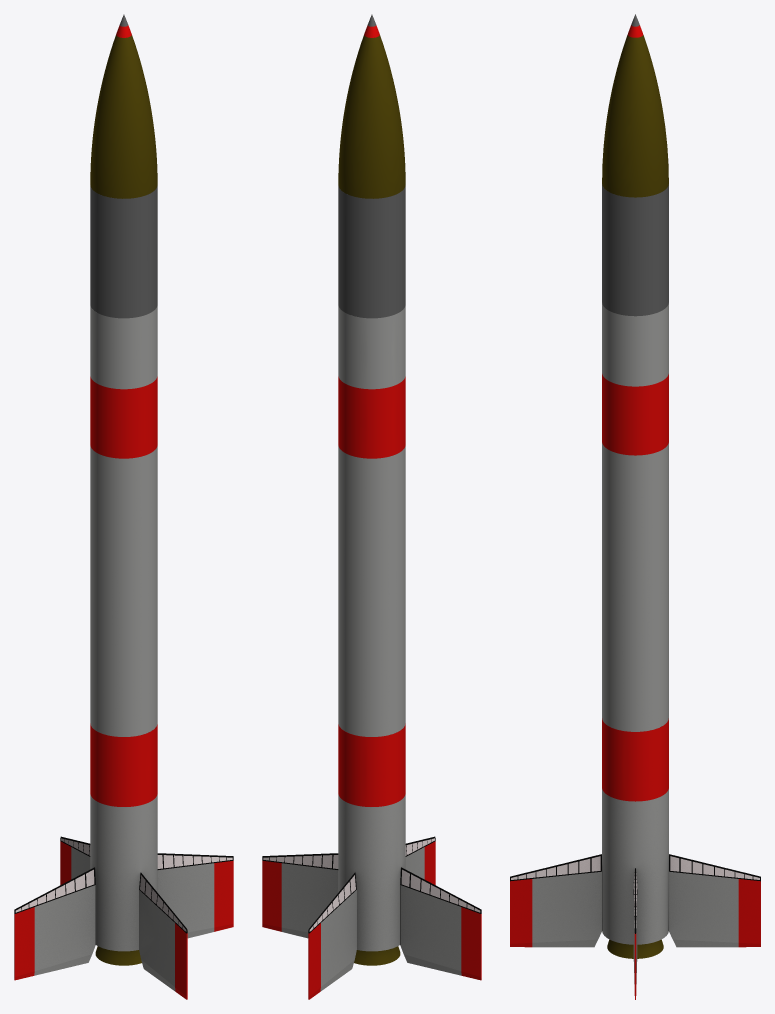
The picture shows the model from 3 angles, left to right: view 1: azimuth 30°, elevation 25°; view 2: azimuth 150°, elevation 25°; view 3: azimuth 270°, elevation 25°; orthographic projection.
Parts seen in each view (by area): view 1: Body; view 2: Body; view 3: Body.
Part boxes in pixels (box(x1,y1,x2,y2)): Body: box(14, 14, 233, 999); Body: box(262, 14, 481, 999); Body: box(510, 14, 760, 999).
Bounding box in the file's own units: 195 × 800 × 195.
1 material, 1 textured.
